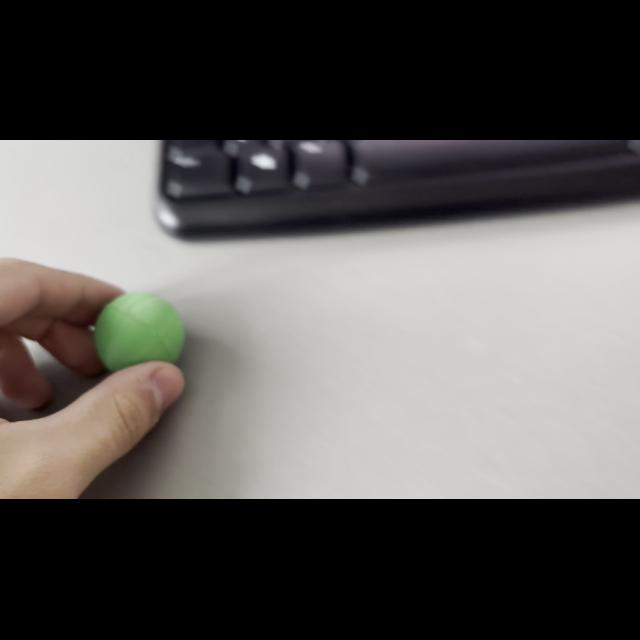objects: (86, 284, 192, 376)
